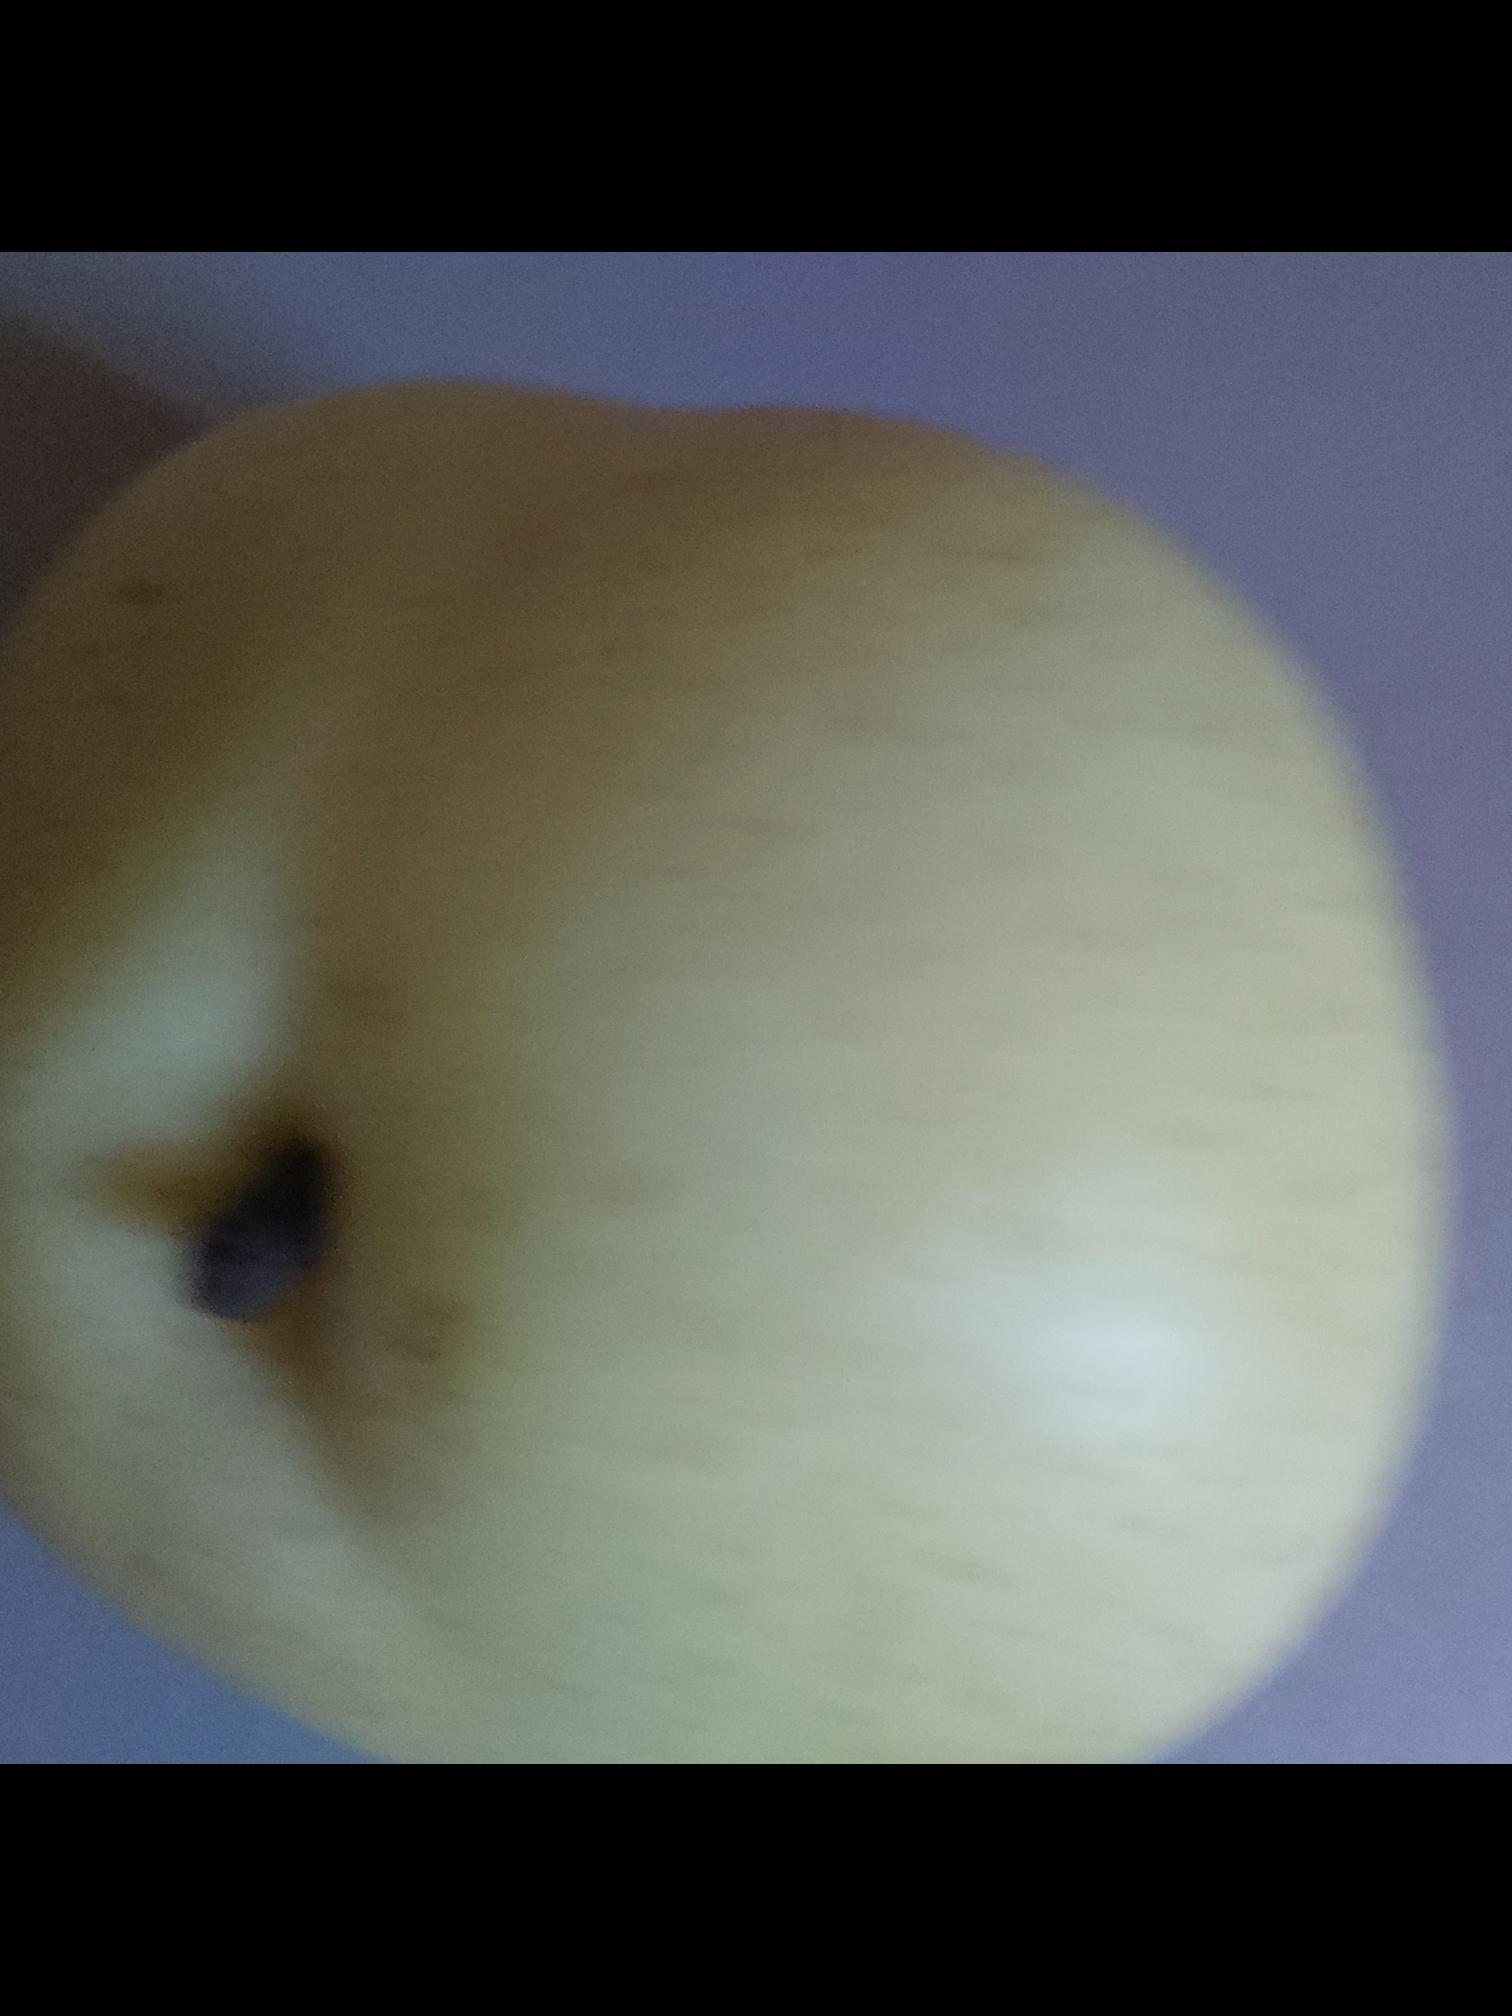Good Pear: (0, 373, 1444, 1764)
